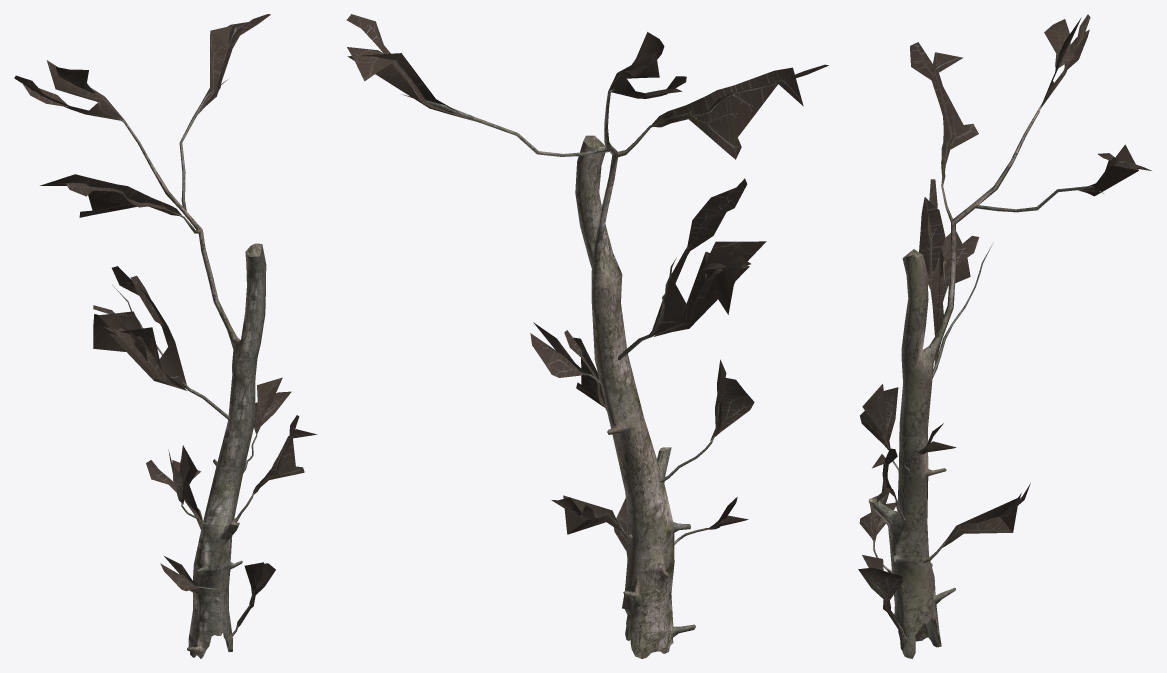
File: SM_Tree_09.fbx
3 views of the same model, side by side, from view 1: azimuth 30°, elevation 25°; view 2: azimuth 150°, elevation 25°; view 3: azimuth 270°, elevation 25° (orthographic). The views are drawn at different scales.
Visible parts, largest first — view 1: SM_Tree_09; view 2: SM_Tree_09; view 3: SM_Tree_09.
Boxes of the visible parts, x1,y1,x2,y2 form: SM_Tree_09: (14,14,317,658); SM_Tree_09: (346,14,828,658); SM_Tree_09: (858,14,1151,658).
Size of the model in its own units: 752 by 610 by 1344.
2 materials, 2 textured.
